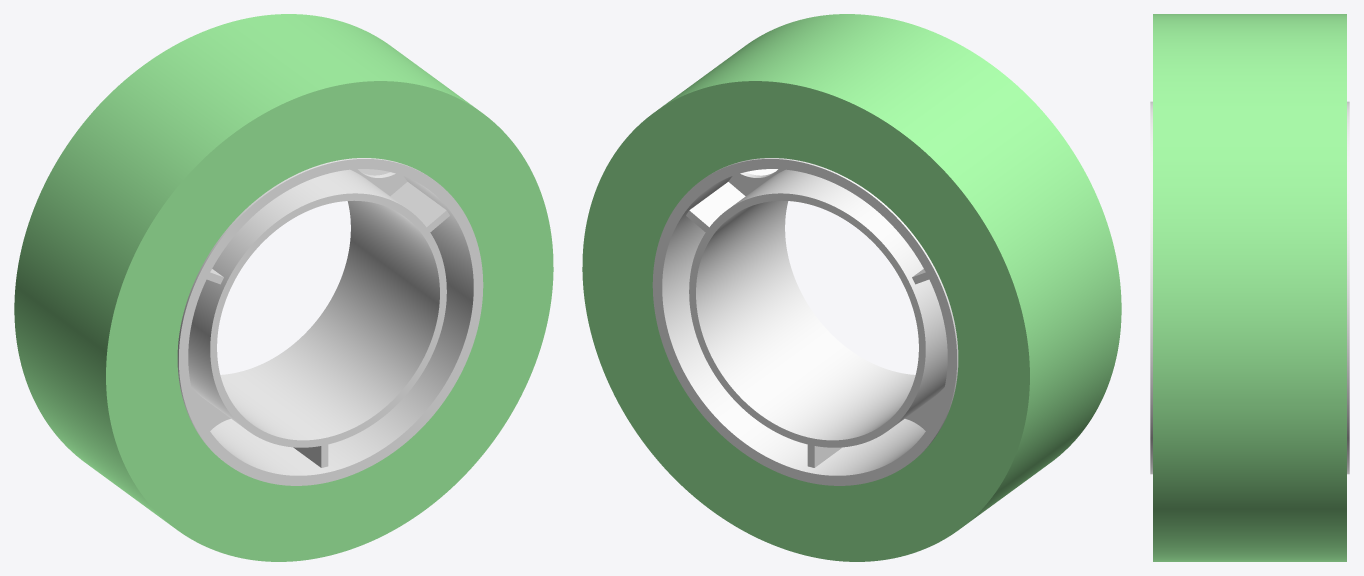
Rendered from tape.dae.
The picture shows the model from 3 angles, left to right: view 1: azimuth 30°, elevation 25°; view 2: azimuth 150°, elevation 25°; view 3: azimuth 270°, elevation 25°; orthographic projection. The views are drawn at different scales.
Visible parts, largest first — view 1: Solid2, Solid1; view 2: Solid2, Solid1; view 3: Solid2, Solid1.
Part boxes in pixels (bbox=[...]): Solid2: bbox=[14, 14, 553, 561]; Solid1: bbox=[177, 158, 483, 485]; Solid2: bbox=[582, 14, 1121, 561]; Solid1: bbox=[652, 158, 958, 485]; Solid2: bbox=[1153, 14, 1346, 561]; Solid1: bbox=[1150, 101, 1349, 474].
Size of the model in its own units: 7.87 by 7.87 by 2.86.
